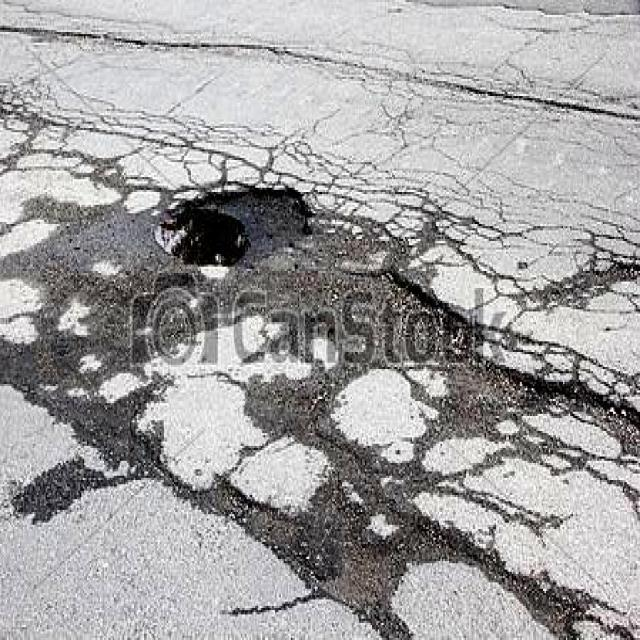pothole: (278, 488, 418, 621), (146, 175, 314, 269)
